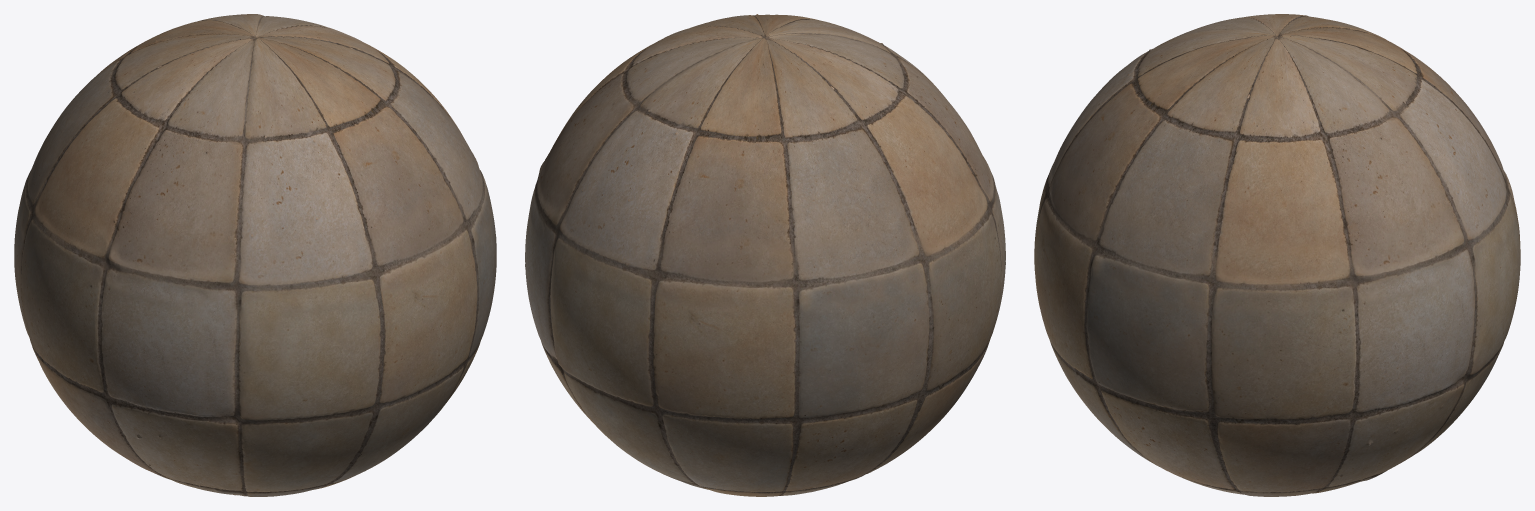
Rendered from floor_tiles_08_1k.glb.
The picture shows the model from 3 angles, left to right: view 1: azimuth 30°, elevation 25°; view 2: azimuth 150°, elevation 25°; view 3: azimuth 270°, elevation 25°; orthographic projection.
Visible parts, largest first — view 1: sphere_gltf; view 2: sphere_gltf; view 3: sphere_gltf.
Part boxes in pixels (<box>): sphere_gltf: <box>14,14,496,496</box>; sphere_gltf: <box>525,14,1005,496</box>; sphere_gltf: <box>1034,14,1520,496</box>.
Size of the model in its own units: 1.51 by 1.51 by 1.51.
Materials: 1 (1 with a texture image).
